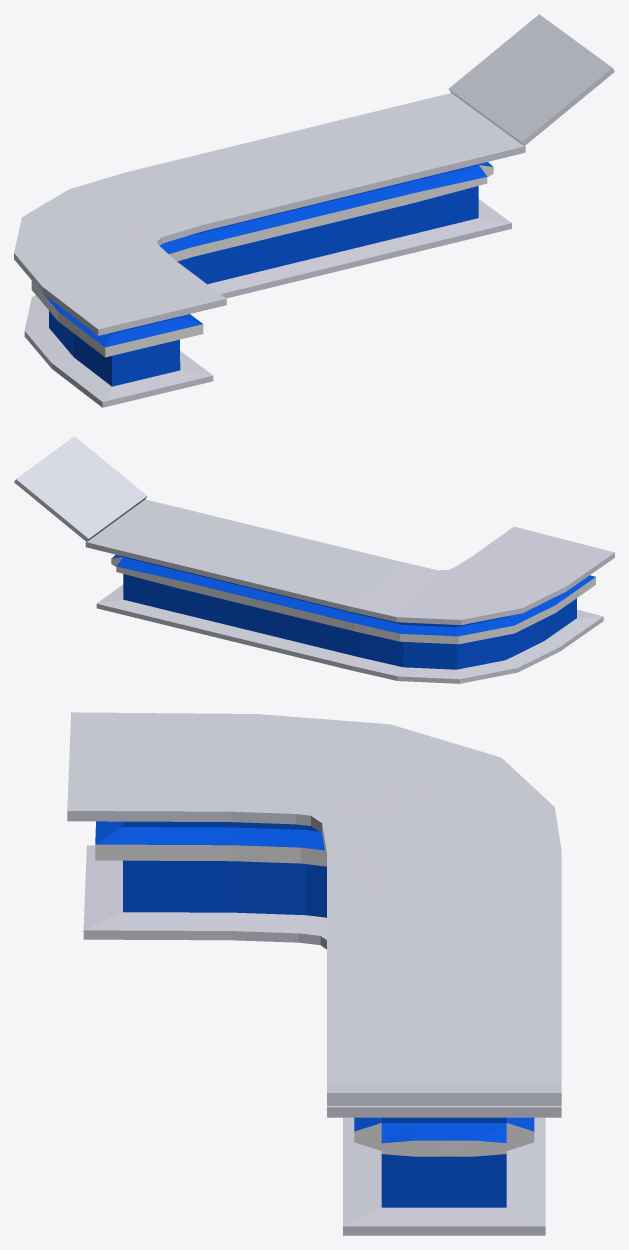
File: Counter.fbx
3 views of the same model, one above another, from view 1: azimuth 30°, elevation 25°; view 2: azimuth 150°, elevation 25°; view 3: azimuth 270°, elevation 25° (orthographic). The views are drawn at different scales.
Parts seen in each view (by area): view 1: Counter, Handle1; view 2: Counter, Handle1; view 3: Counter, Handle1.
Boxes of the visible parts, bbox=[...] form: Counter: bbox=[14, 93, 525, 407]; Handle1: bbox=[449, 14, 614, 146]; Counter: bbox=[85, 499, 614, 683]; Handle1: bbox=[14, 436, 147, 541]; Counter: bbox=[67, 712, 561, 1235]; Handle1: bbox=[327, 1083, 561, 1105].
Size of the model in its own units: 48.31 by 11.14 by 21.62.
